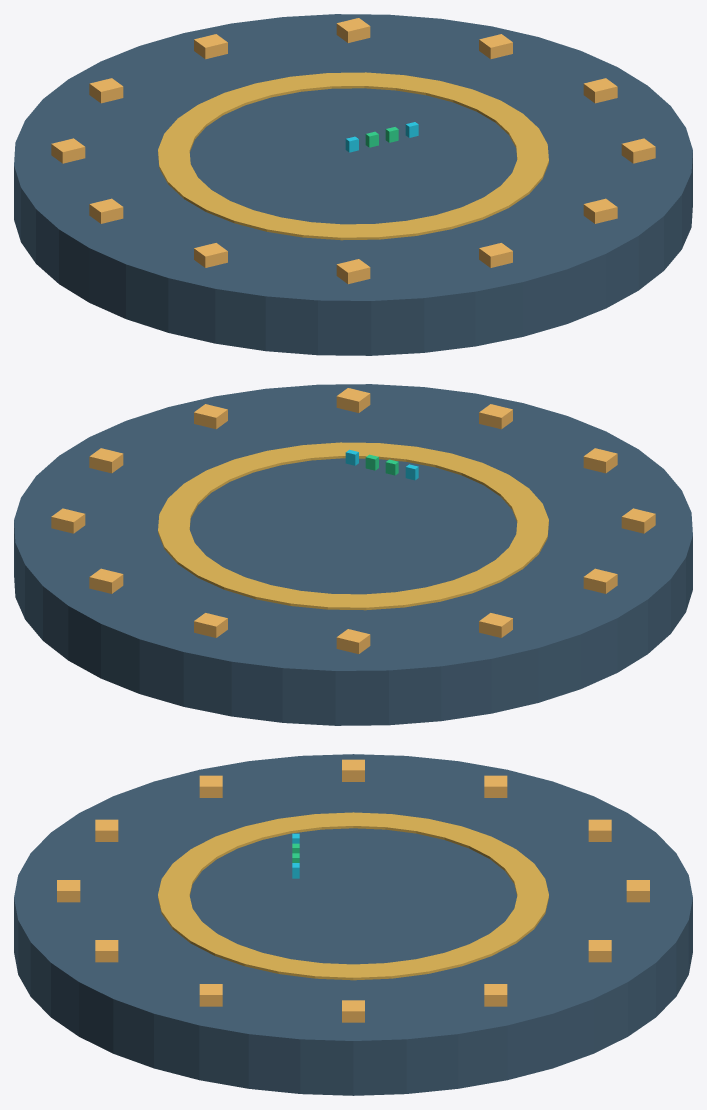
Rendered from 45_L78_CureWaferTemperatureSensor.fbx.
3 renders of one model, top to bottom at view 1: azimuth 30°, elevation 25°; view 2: azimuth 150°, elevation 25°; view 3: azimuth 270°, elevation 25°, orthographic.
Parts seen in each view (by area): view 1: CureWaferTemperatureSensor, CureWaferTemperatureSensor_Part_0014; view 2: CureWaferTemperatureSensor, CureWaferTemperatureSensor_Part_0014; view 3: CureWaferTemperatureSensor, CureWaferTemperatureSensor_Part_0014.
Part boxes in pixels (box(x1,y1,x2,y2)): CureWaferTemperatureSensor: box(14, 14, 692, 355); CureWaferTemperatureSensor_Part_0014: box(158, 72, 548, 240); CureWaferTemperatureSensor: box(14, 384, 692, 725); CureWaferTemperatureSensor_Part_0014: box(158, 442, 548, 610); CureWaferTemperatureSensor: box(14, 754, 692, 1095); CureWaferTemperatureSensor_Part_0014: box(158, 812, 548, 980).
Size of the model in its own units: 236 by 39 by 236.
